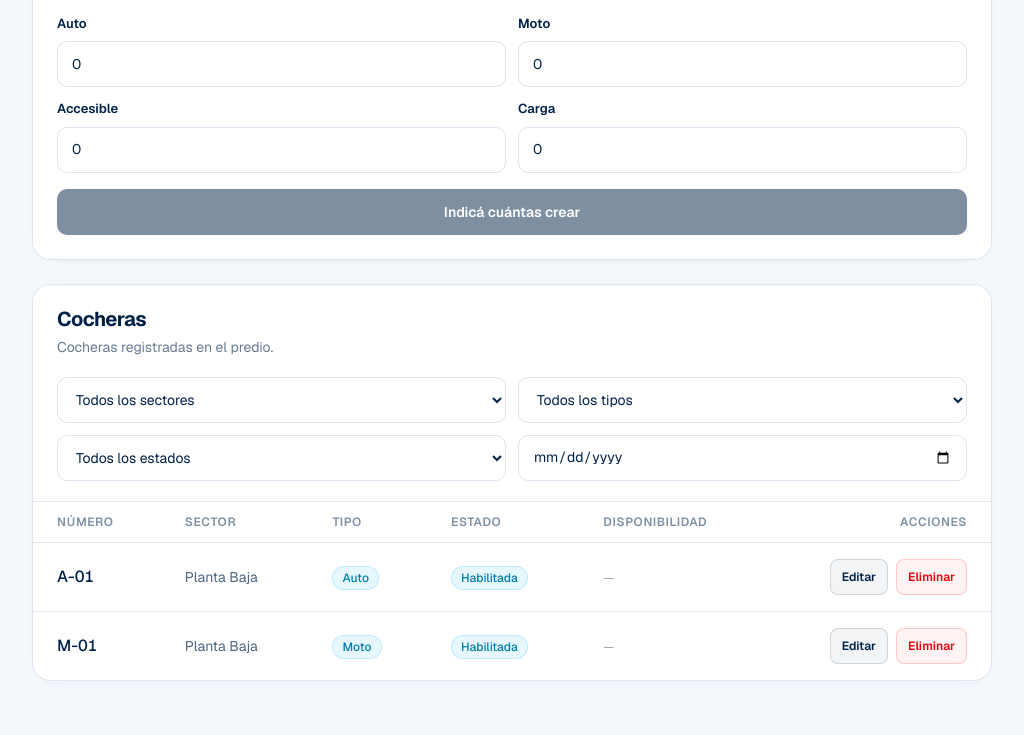
it: CocherasManagement › filtra por tipo pidiendole al backend
(page scrolled)
expect the text "A-01" is shown: met, box [33,542,161,611]
Select "Moto" in the 2nd dropdown showing "Todos los tipos" at (742, 400), box [518,376,967,422]
(page scrolled)
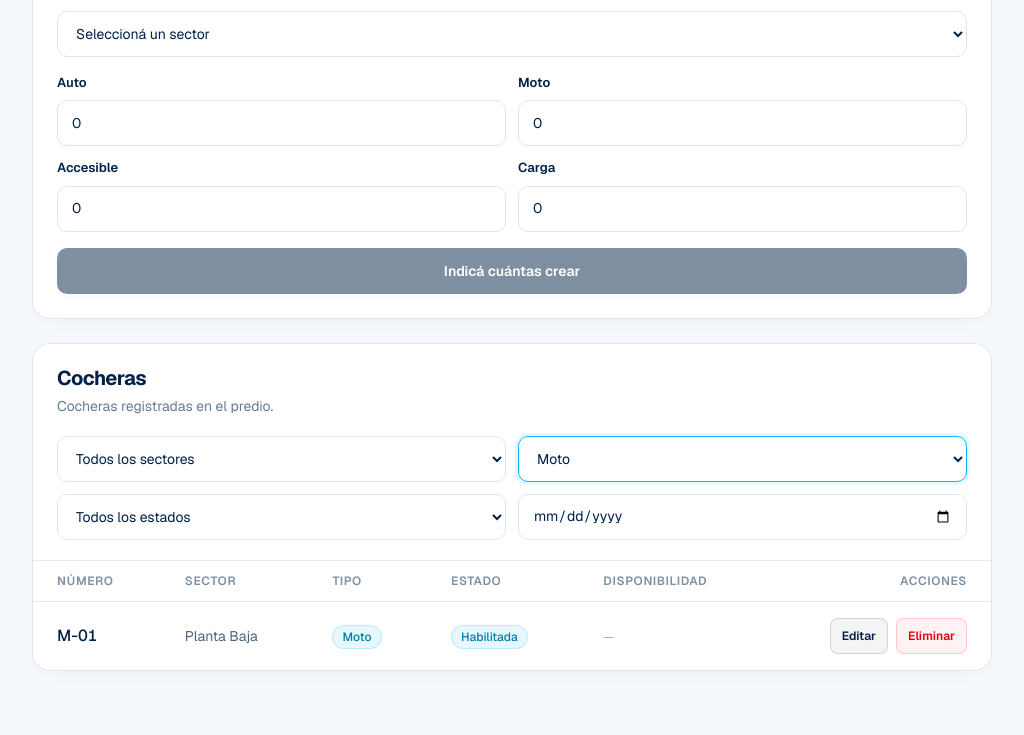
expect the text "M-01" is shown: met, box [33,601,161,670]
expect the text "A-01" is gone: met
